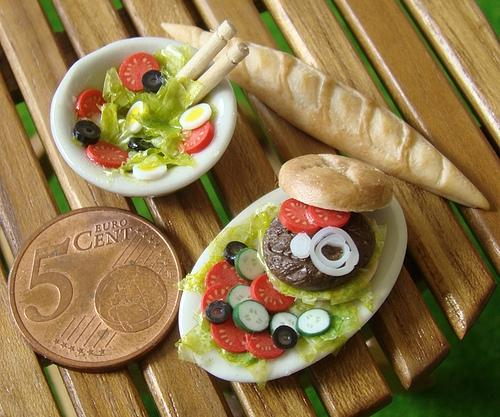cucumber: (232, 300, 270, 334), (234, 247, 266, 281), (296, 308, 331, 336), (270, 312, 301, 337), (225, 284, 252, 308)
onion: (310, 227, 360, 276), (315, 234, 350, 268), (290, 232, 311, 258)
tomato: (250, 273, 295, 312), (119, 52, 160, 92), (211, 312, 248, 354), (278, 198, 320, 235), (206, 260, 252, 290), (246, 328, 287, 360), (202, 283, 233, 325), (176, 120, 214, 154), (85, 141, 128, 168), (308, 206, 351, 227), (76, 90, 106, 118)
